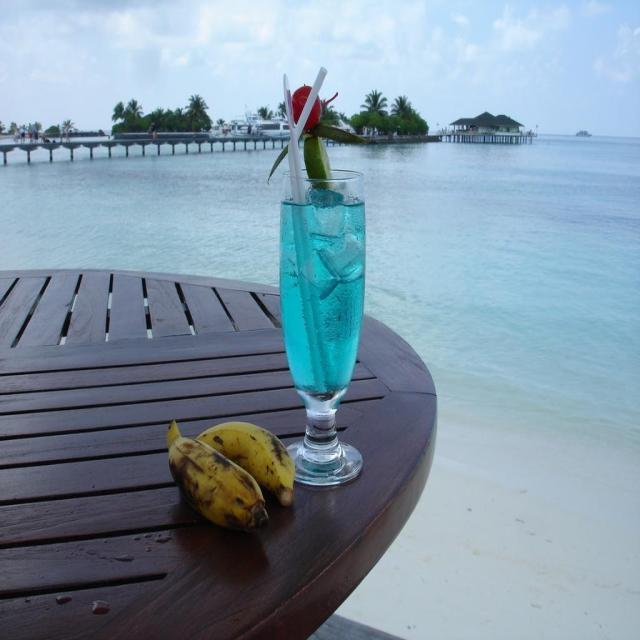banana: (166, 420, 269, 535), (197, 422, 296, 510)
